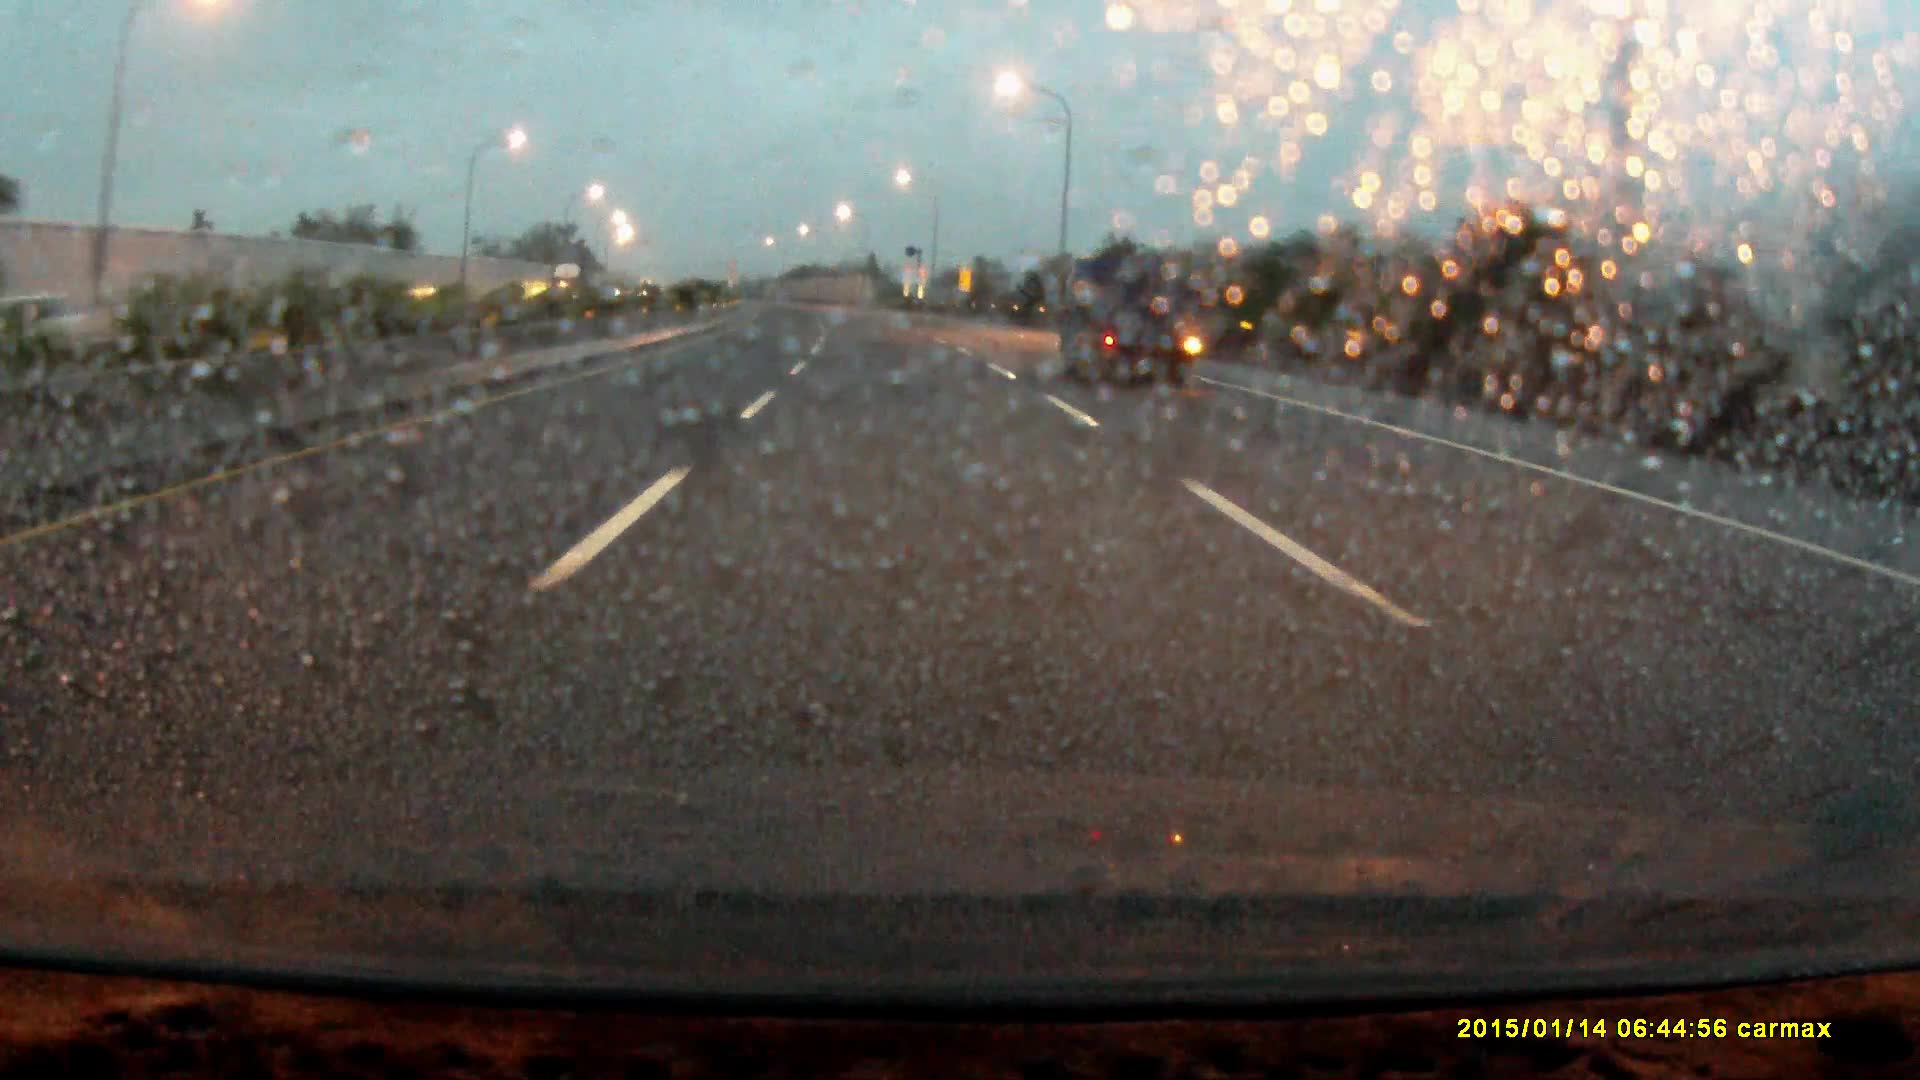vehicle: (1058, 255, 1199, 396), (553, 261, 589, 315)
